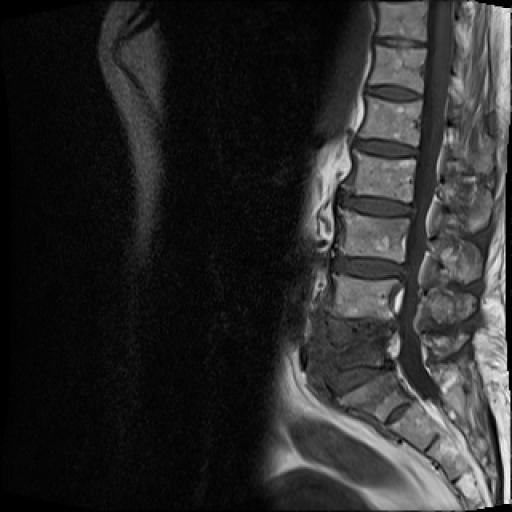L1: (360, 98, 422, 146)
L2: (340, 148, 416, 202)
L3: (336, 206, 408, 262)
L4: (332, 276, 398, 320)
L5: (327, 315, 391, 370)
S1: (338, 371, 412, 422)
